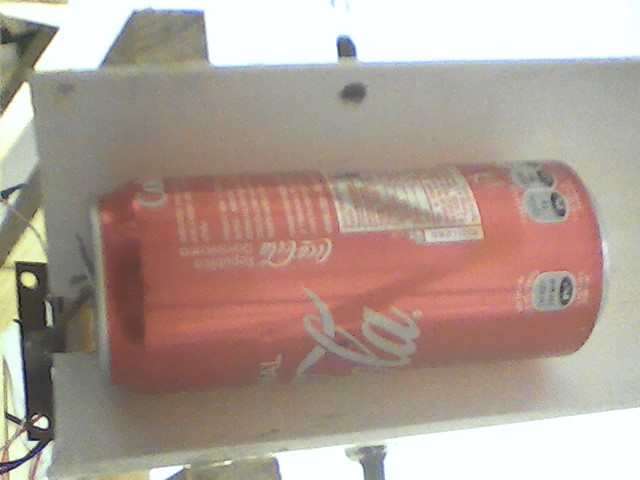lata: (83, 157, 616, 391)
